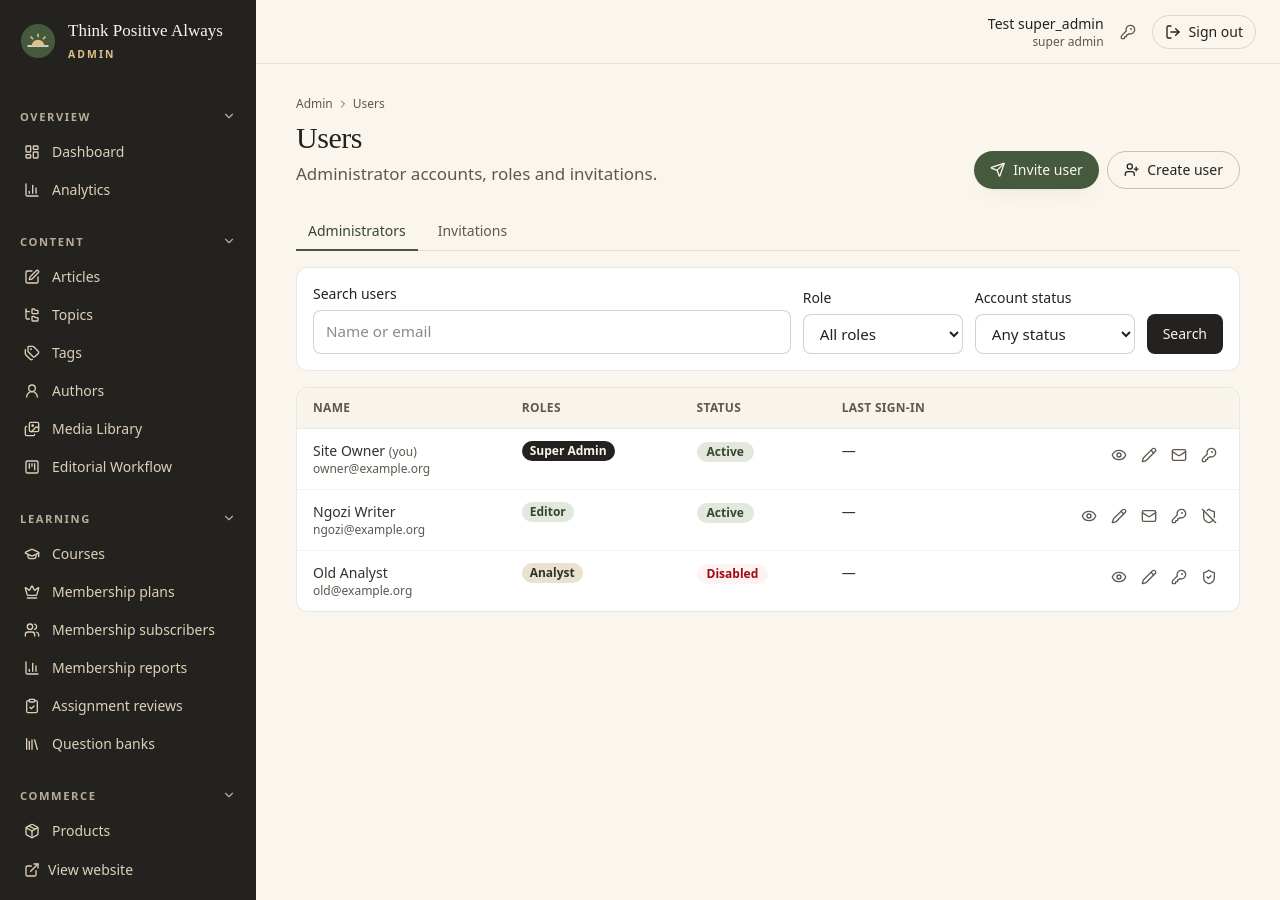
assigning multiple roles › previews effective permissions while choosing roles
Click the button named "Edit Ngozi Writer" at (1119, 516), box [1105,502,1133,530]
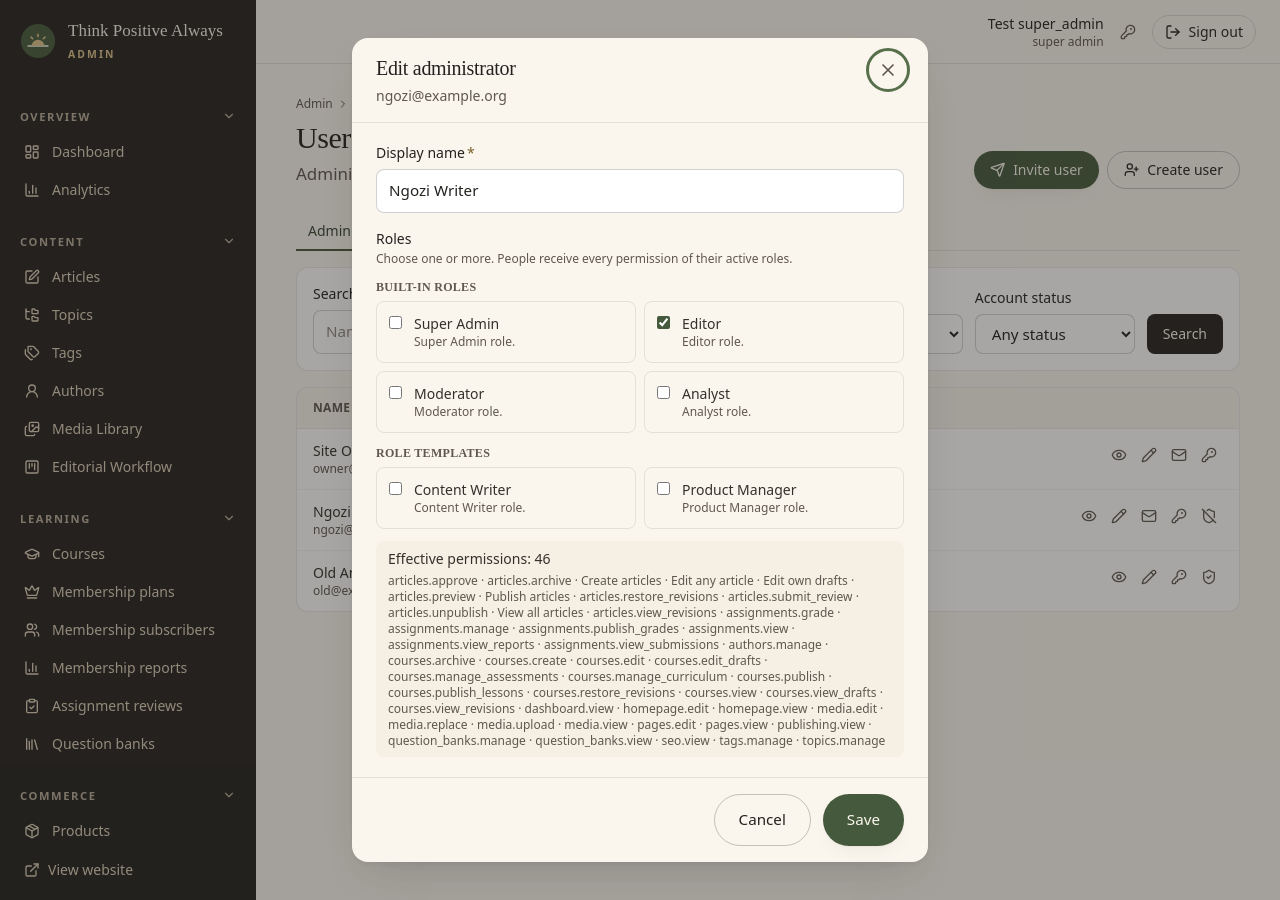
Click the checkbox labelled "Analyst Analyst role." at (664, 392), box [657,386,670,399]
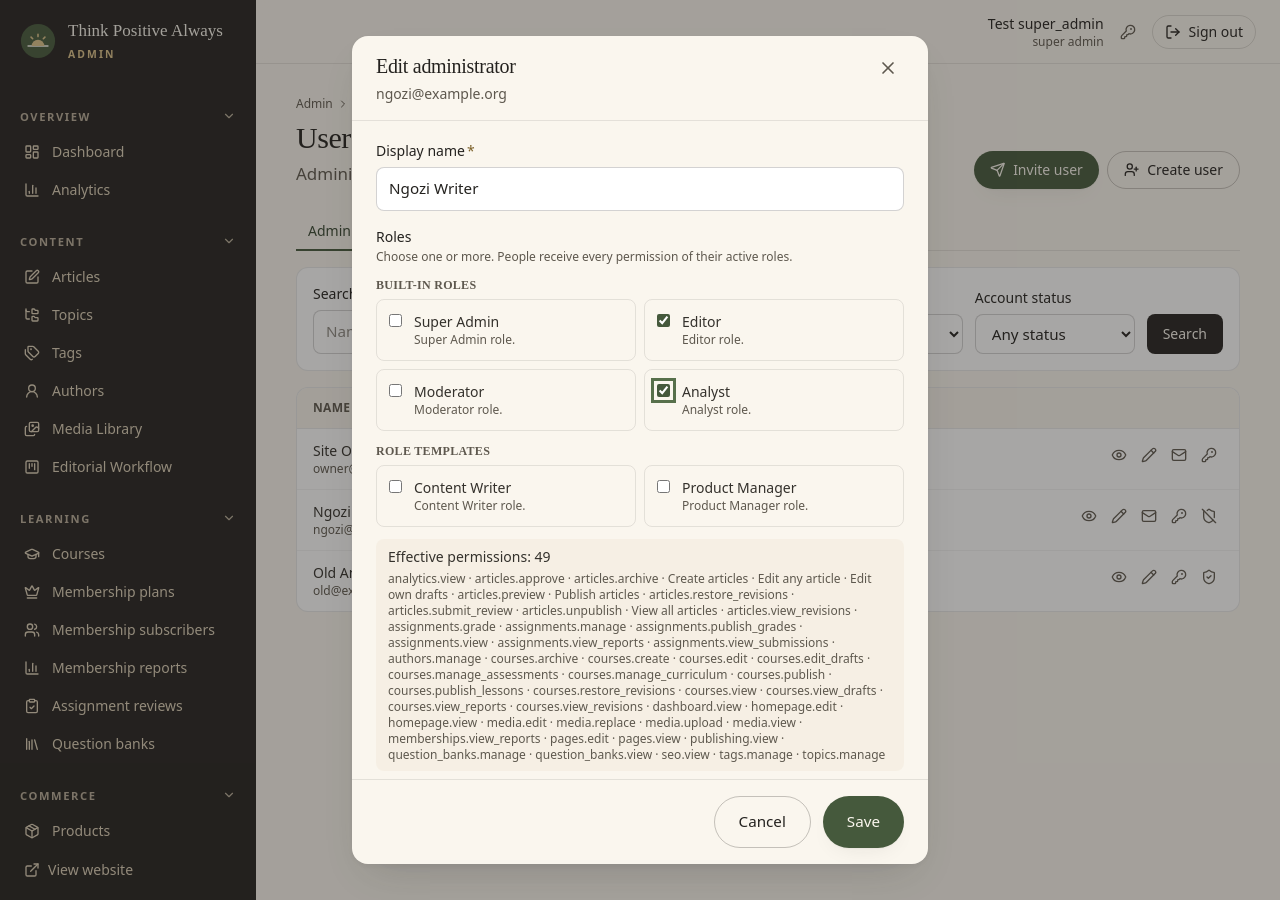
Check: the element with test id "effective-preview" shows "analytics.view", box [388,570,885,763]
Click the checkbox labelled "Super Admin Super Admin role." at (396, 320), box [389,314,402,327]
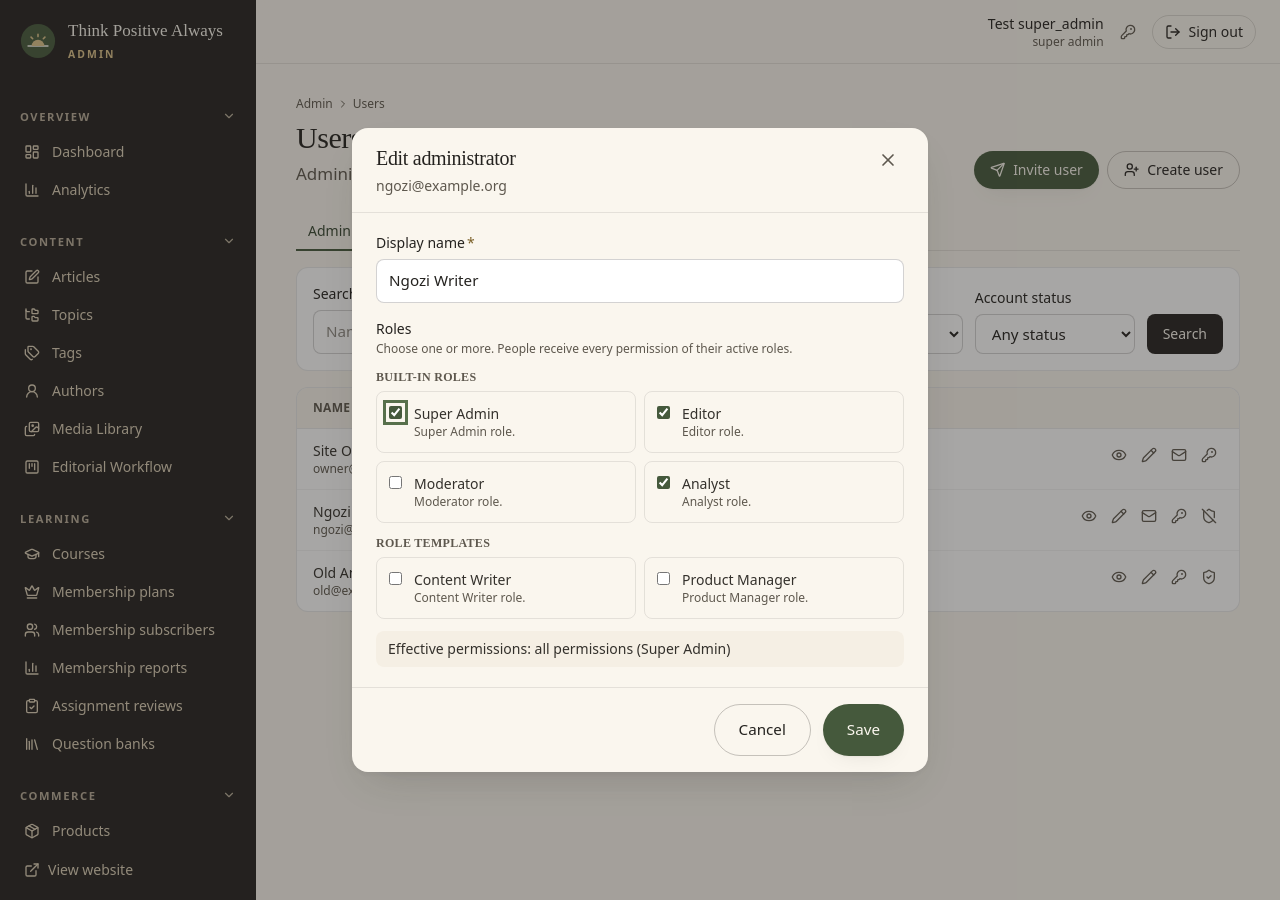
Check: the heading "Role templates" is shown, box [376,536,490,550]
Check: the element with test id "effective-preview" shows "all permissions (Super Admin)", box [535,639,730,658]
